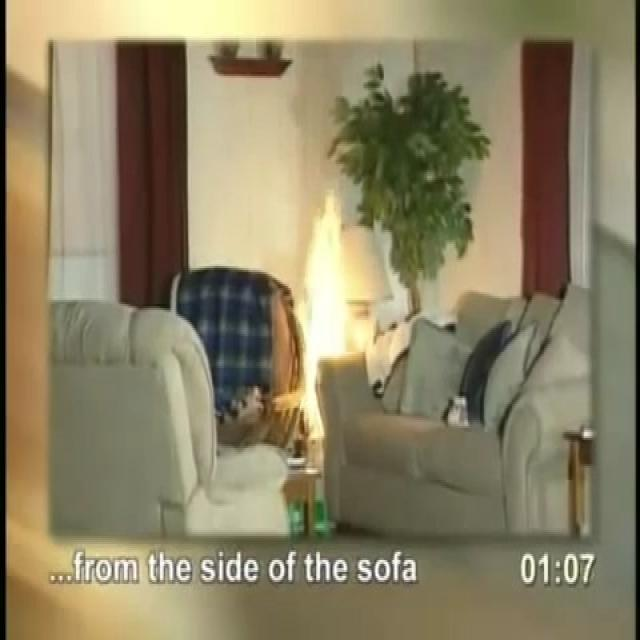Fire: (278, 165, 391, 420)
